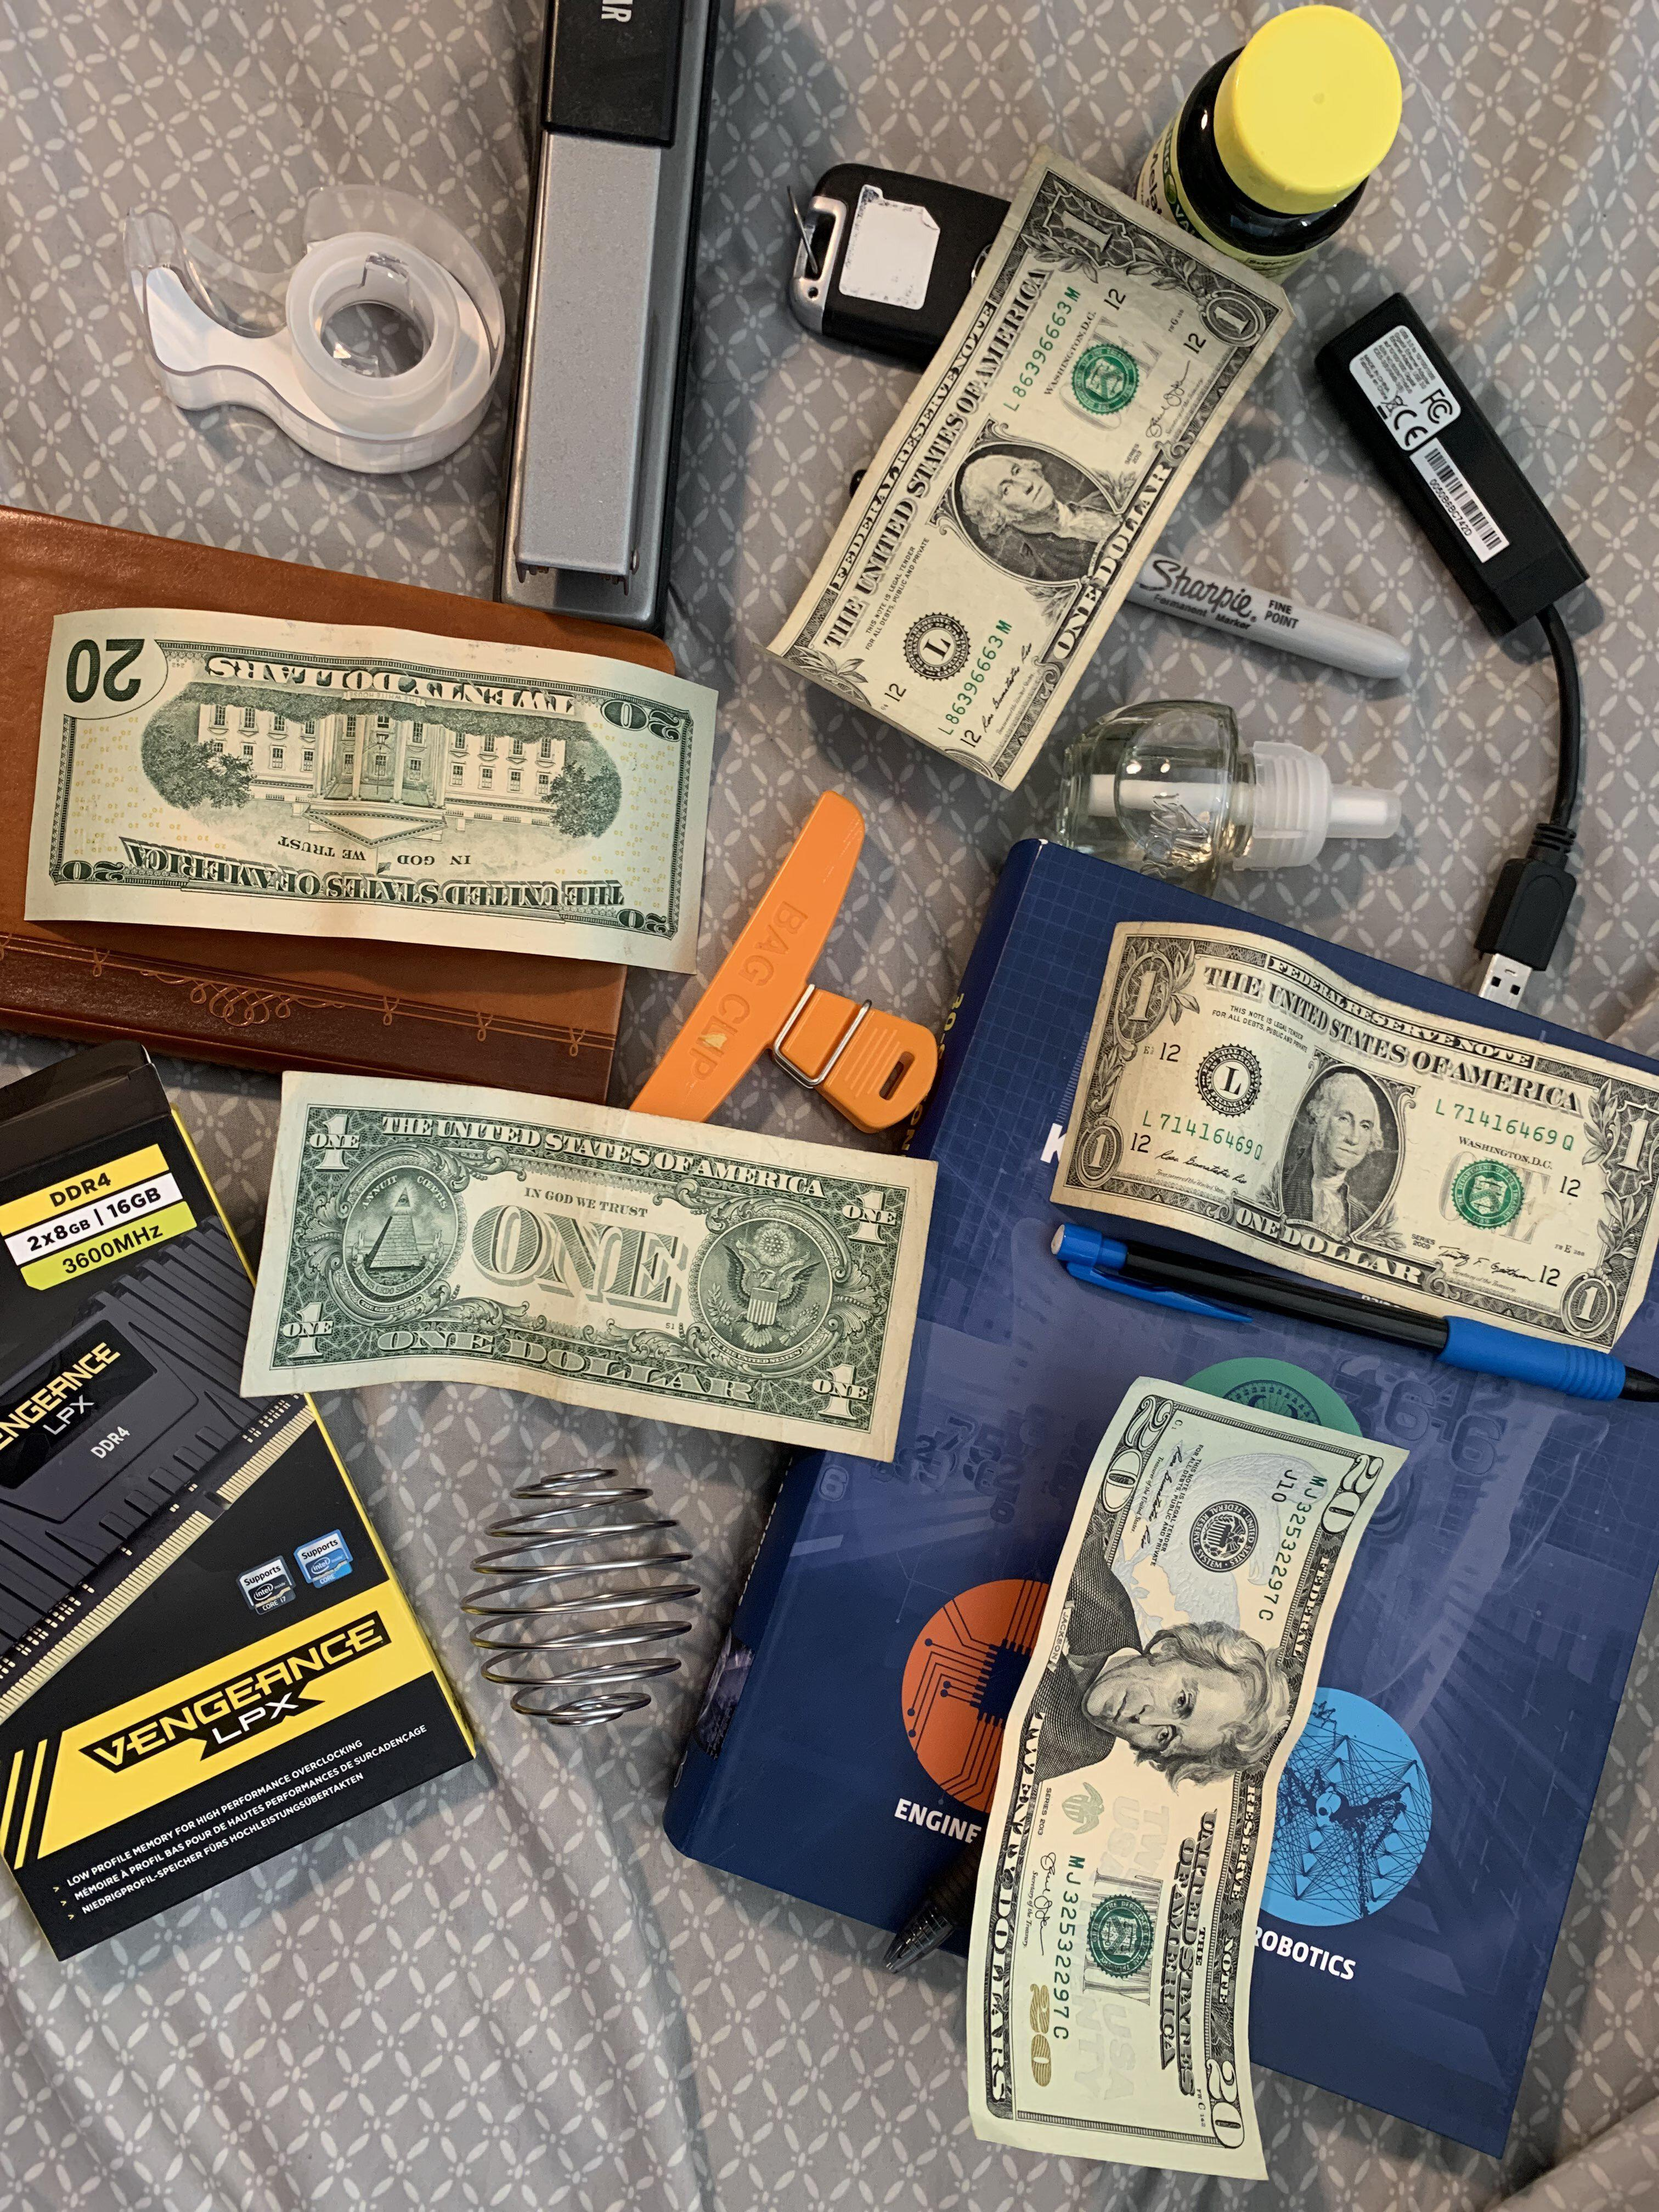OneBill: (744, 127, 1345, 820), (227, 1015, 958, 1527), (1040, 887, 1659, 1411)
TwentyBill: (948, 1355, 1429, 2200), (7, 578, 734, 1007)
